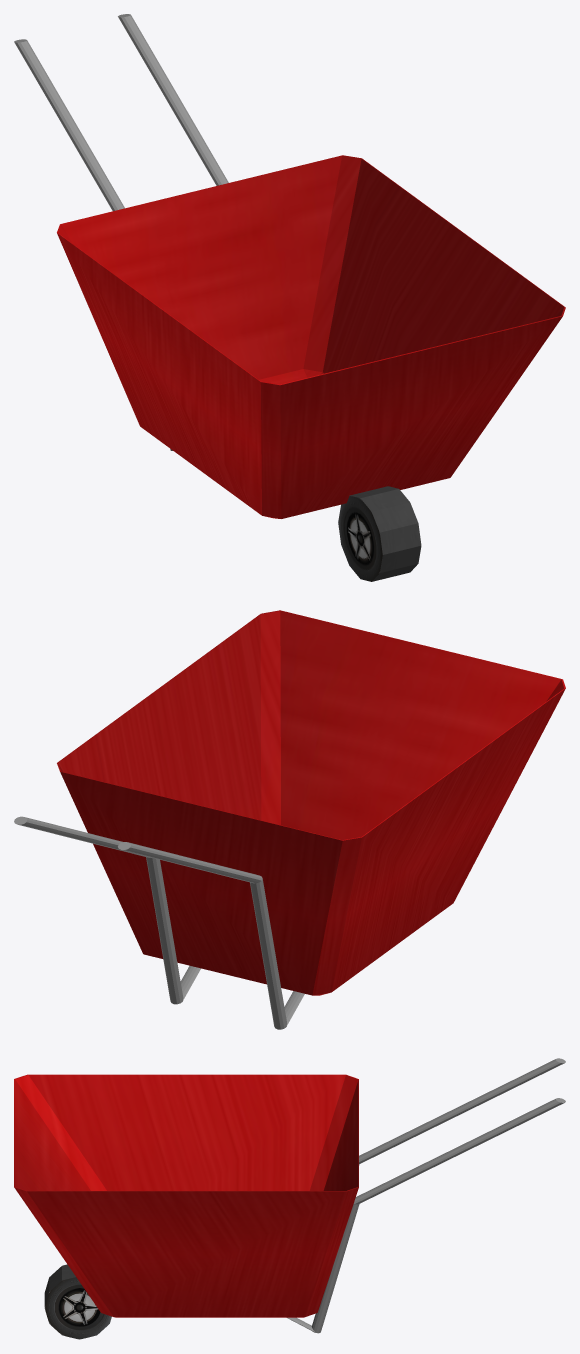
Rendered from wheelbarrow.fbx.
3 views of the same model, one above another, from view 1: azimuth 30°, elevation 25°; view 2: azimuth 150°, elevation 25°; view 3: azimuth 270°, elevation 25° (orthographic). The views are drawn at different scales.
Parts seen in each view (by area): view 1: Cylinder.001; view 2: Cylinder.001; view 3: Cylinder.001.
Part boxes in pixels (x1,y1,x2,y2): Cylinder.001: (14, 14, 565, 581); Cylinder.001: (14, 610, 565, 1029); Cylinder.001: (14, 1058, 565, 1339).
Size of the model in its own units: 78.9 by 79.74 by 158.
3 materials, 3 textured.
